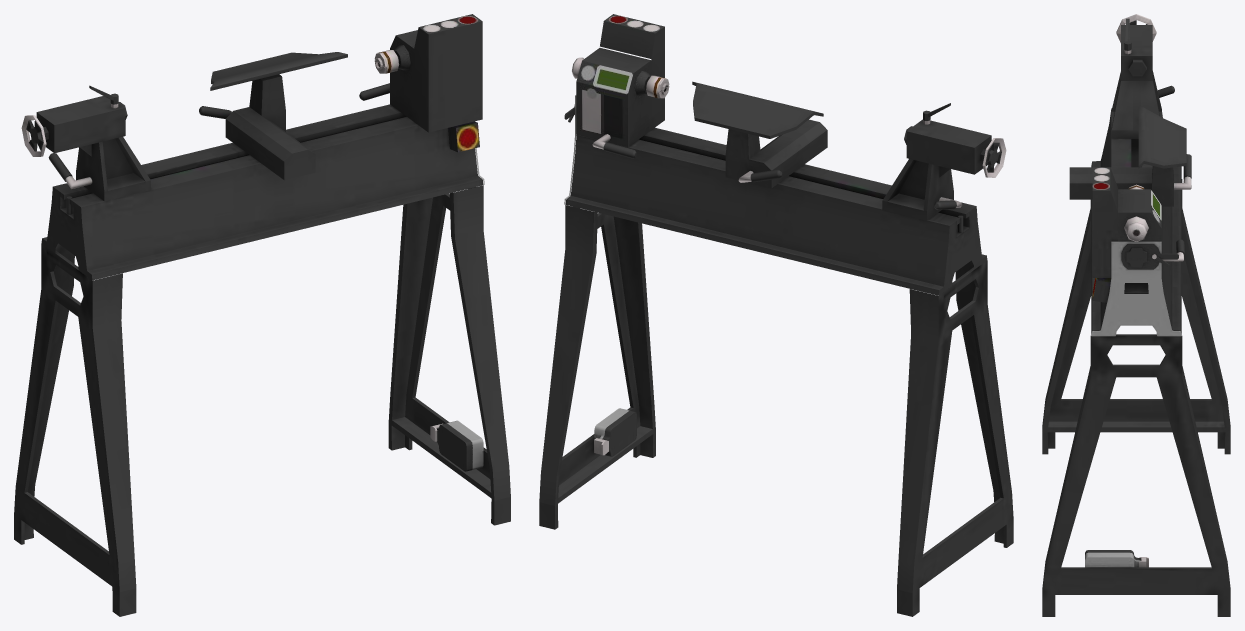
3 views of the same model, side by side, from view 1: azimuth 30°, elevation 25°; view 2: azimuth 150°, elevation 25°; view 3: azimuth 270°, elevation 25° (orthographic). The views are drawn at different scales.
Parts seen in each view (by area): view 1: Mu_Gong_Che_Chuang_0; view 2: Mu_Gong_Che_Chuang_0; view 3: Mu_Gong_Che_Chuang_0.
Boxes of the visible parts, x1,y1,x2,y2 form: Mu_Gong_Che_Chuang_0: (14, 14, 510, 616); Mu_Gong_Che_Chuang_0: (539, 14, 1013, 616); Mu_Gong_Che_Chuang_0: (1042, 14, 1230, 616).
Bounding box in the file's own units: 1.34 × 1.43 × 0.5578.
1 material, 1 textured.
